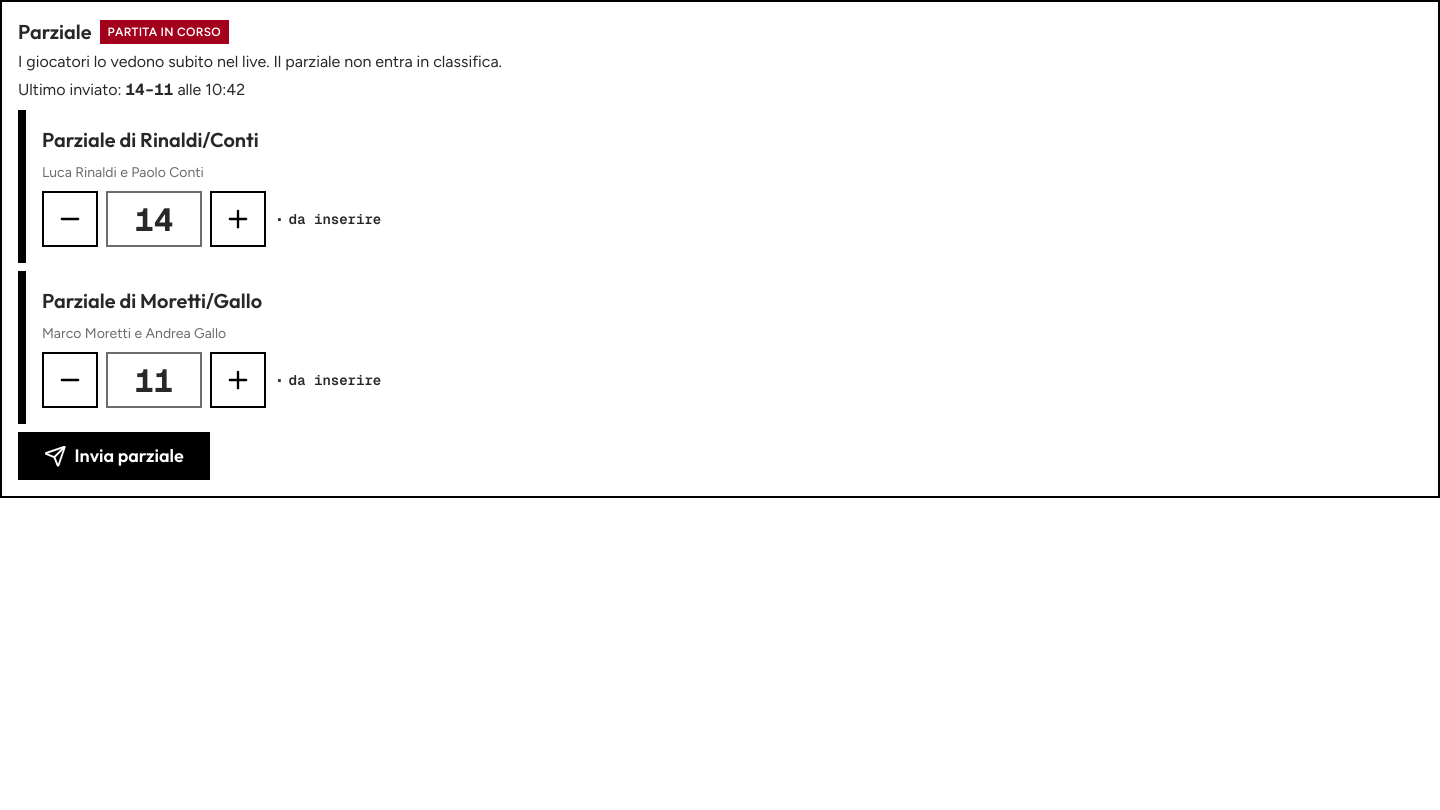
Test: ParzialeForm (BLVS-37) › conflitto: dialogo con i due parziali; «Tieni quello inviato» riprende valore e versione
The image size is (1440, 810).
Step 1. Click the button "Invia parziale" → (114, 456), box [18, 432, 210, 480]
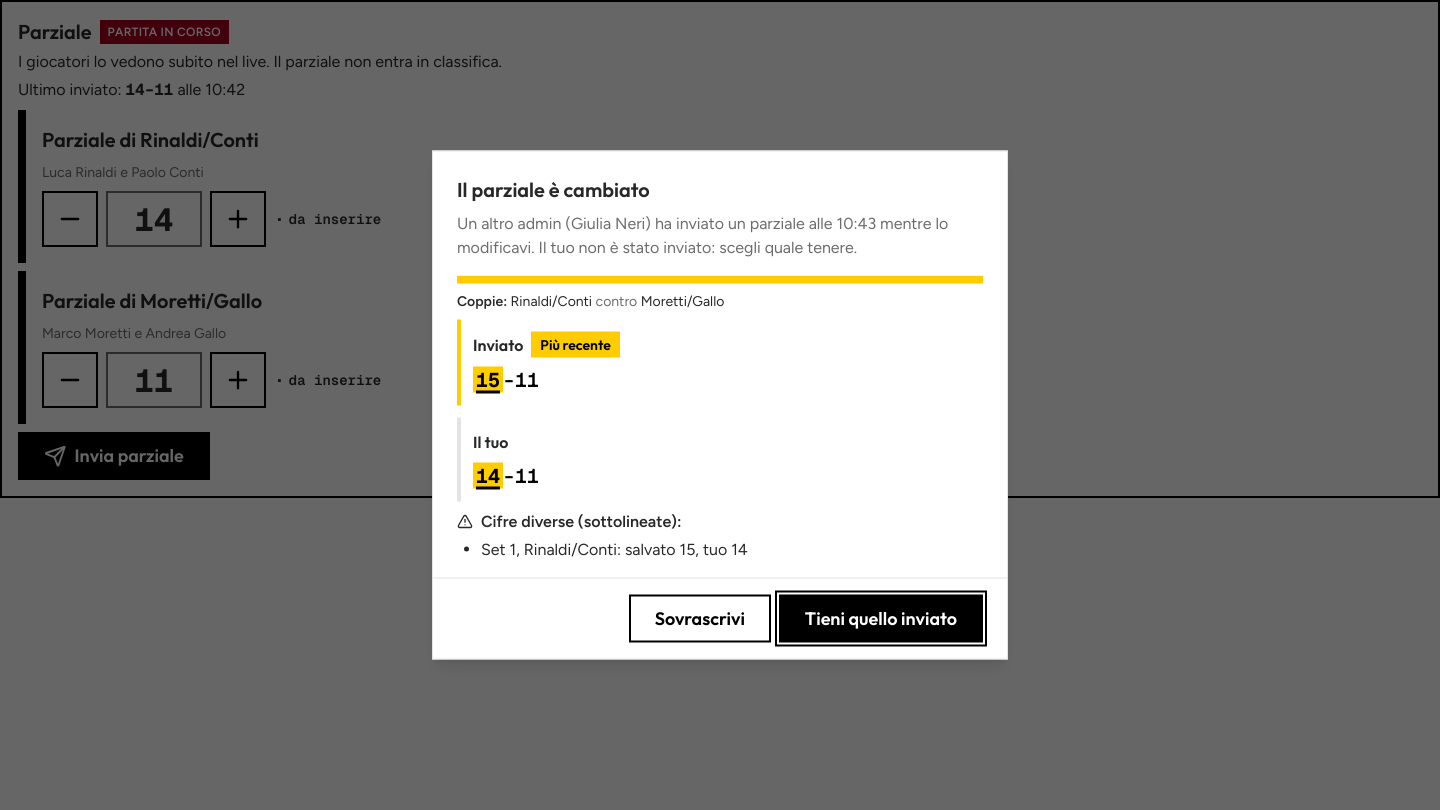
Expected: the heading "Il parziale è cambiato" is shown, [457, 176, 650, 202]
Expected: the dialog shows "Giulia Neri", [457, 214, 948, 256]
Step 2. Click the button "Tieni quello inviato" → (881, 618), box [779, 594, 983, 642]
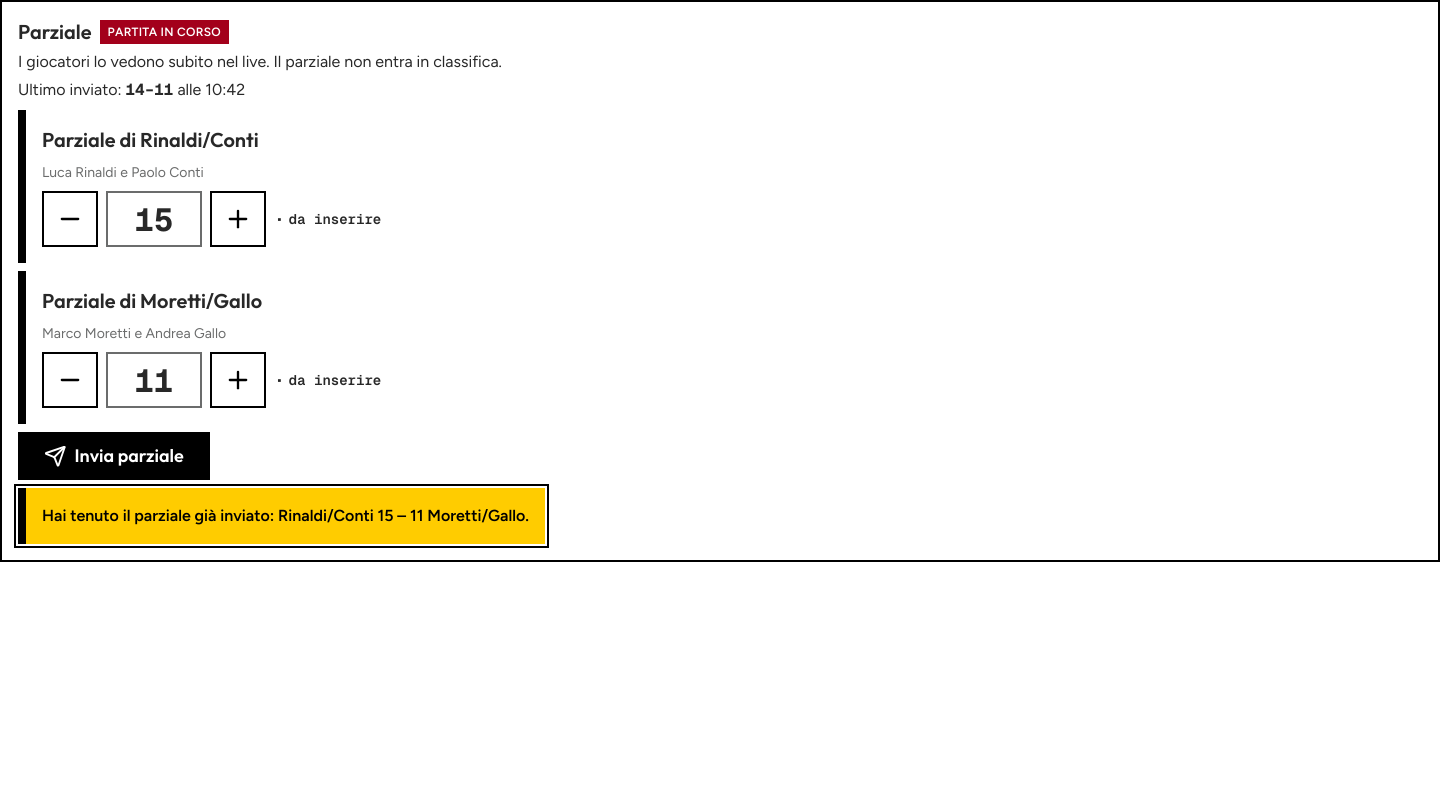
Expected: the field labelled "Parziale di Rinaldi/Conti" holds "15", [106, 191, 202, 247]
Expected: the message shows "Hai tenuto il parziale già inviato", [42, 506, 529, 525]
